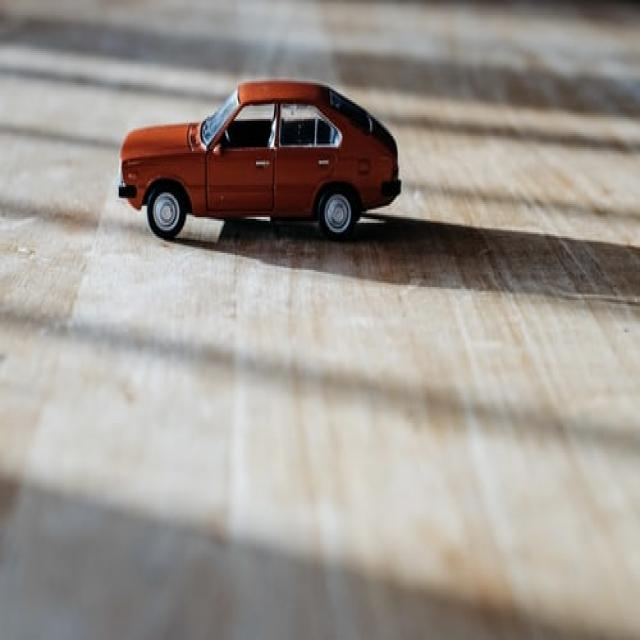Car: (117, 78, 400, 242)
